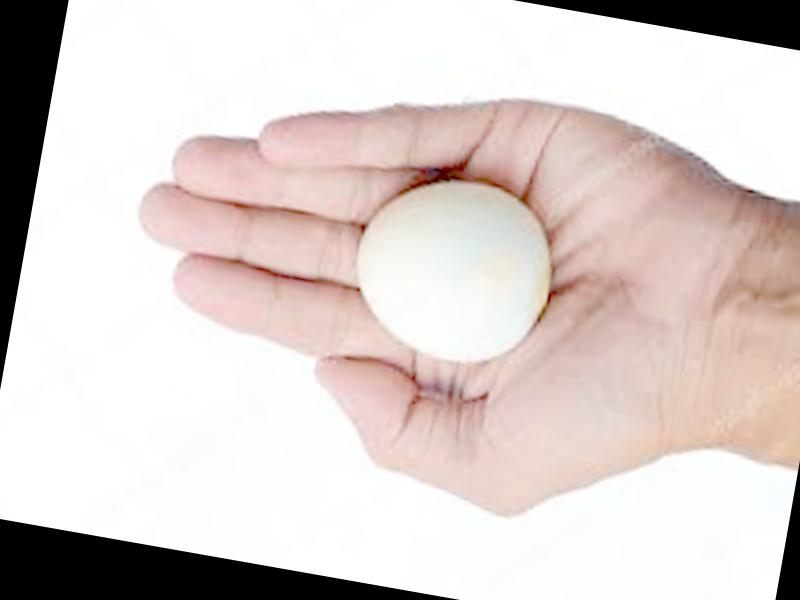Eggs: (340, 168, 563, 371)
